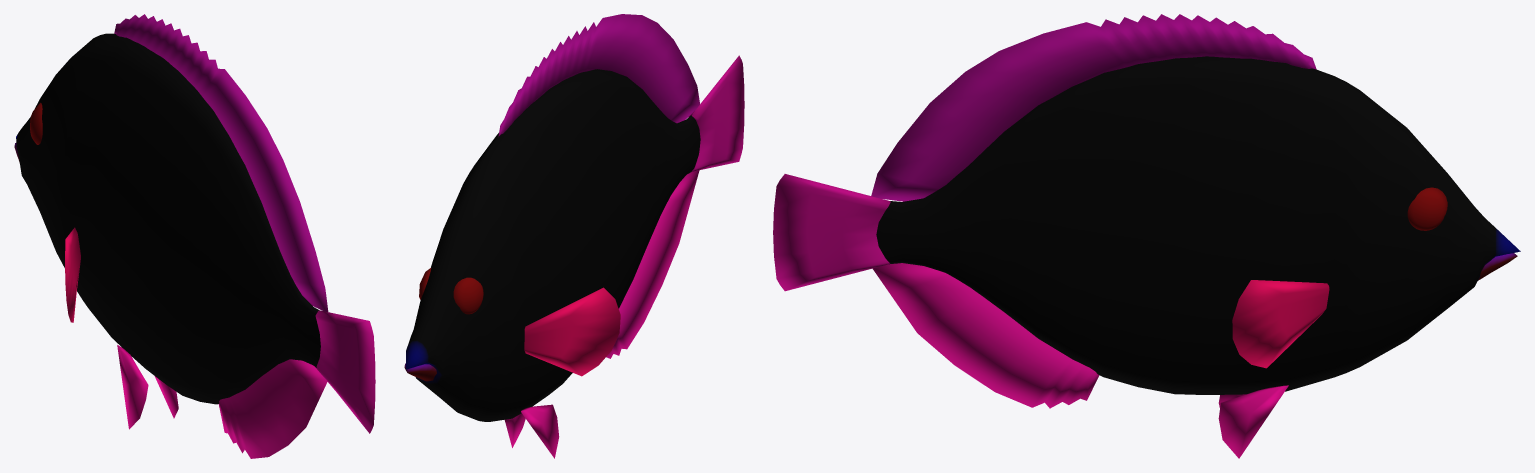
The model's file is butterflyfish_raccoon_game.glb.
3 renders of one model, left to right at view 1: azimuth 30°, elevation 25°; view 2: azimuth 150°, elevation 25°; view 3: azimuth 270°, elevation 25°, orthographic. The views are drawn at different scales.
Parts seen in each view (by area): view 1: butterflyfish_raccoon_game; view 2: butterflyfish_raccoon_game; view 3: butterflyfish_raccoon_game.
Boxes of the visible parts, left/top/right/bottom form: butterflyfish_raccoon_game: left=14, top=14, right=375, bottom=458; butterflyfish_raccoon_game: left=404, top=14, right=744, bottom=458; butterflyfish_raccoon_game: left=773, top=14, right=1520, bottom=458.
Size of the model in its own units: 0.0517 by 0.1151 by 0.18.
